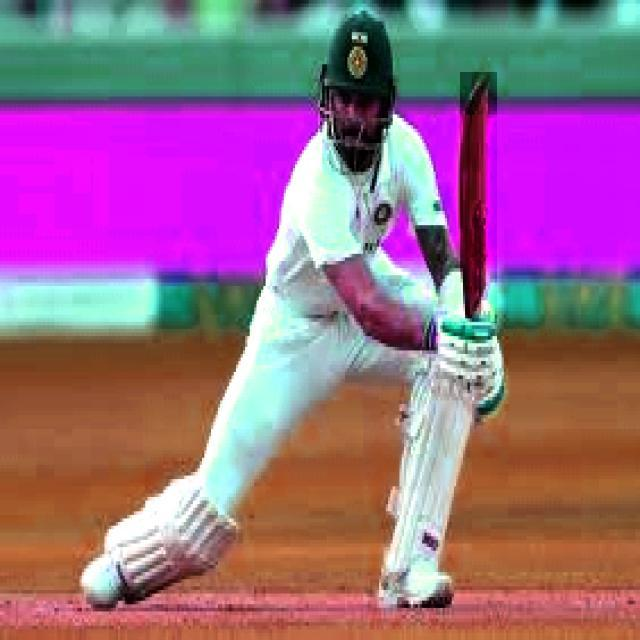bat: (461, 73, 507, 317)
toe: (461, 71, 499, 110)
